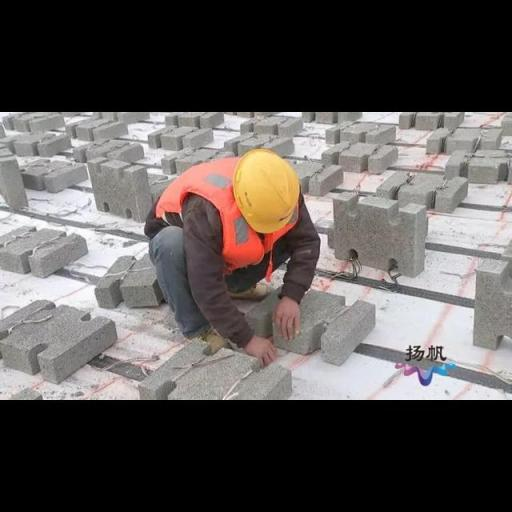Person: (122, 126, 348, 362)
boots: (188, 328, 246, 358), (222, 279, 288, 304)
helmet: (222, 145, 308, 232)
none: (267, 293, 311, 344), (241, 323, 285, 373)
vest: (155, 158, 300, 273)
